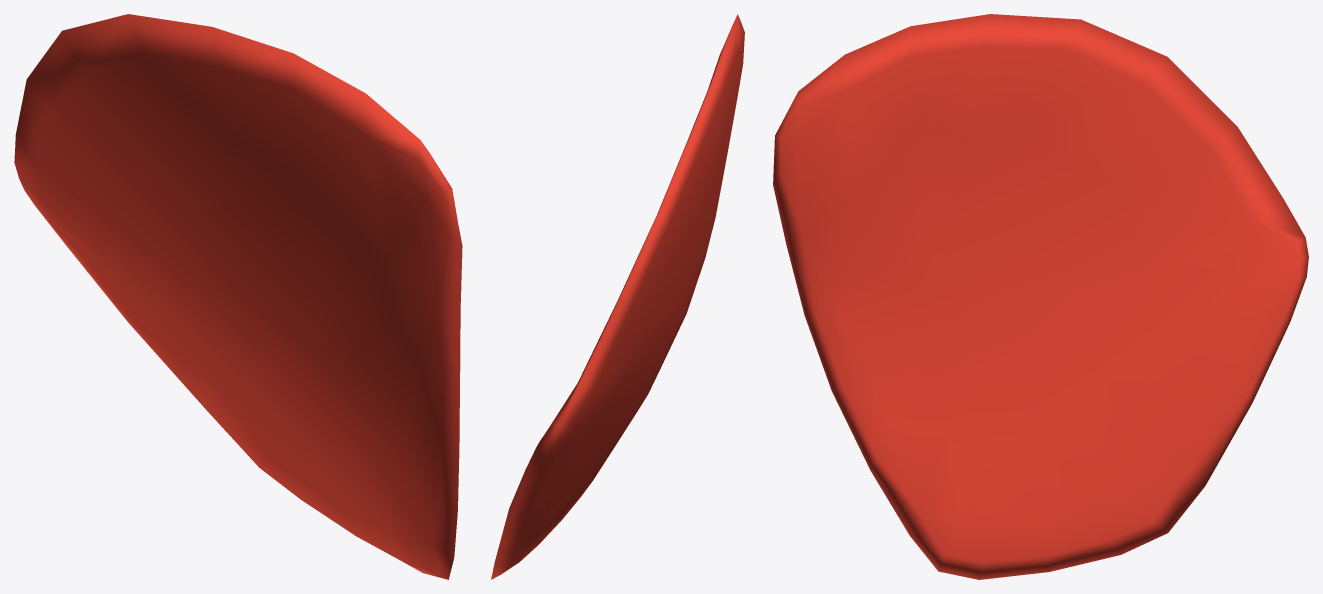
File: Extensor_digitorum_longus_lateral_surface_lateral_condyle_right.glb
3 renders of one model, left to right at view 1: azimuth 30°, elevation 25°; view 2: azimuth 150°, elevation 25°; view 3: azimuth 270°, elevation 25°, orthographic. The views are drawn at different scales.
Parts seen in each view (by area): view 1: Extensor_digitorum_longus_on_lat._surf_of_lat.condyle.r_Gene; view 2: Extensor_digitorum_longus_on_lat._surf_of_lat.condyle.r_Gene; view 3: Extensor_digitorum_longus_on_lat._surf_of_lat.condyle.r_Gene.
Boxes of the visible parts, x1=… form: Extensor_digitorum_longus_on_lat._surf_of_lat.condyle.r_Gene: x1=14, y1=14, x2=462, y2=579; Extensor_digitorum_longus_on_lat._surf_of_lat.condyle.r_Gene: x1=491, y1=14, x2=744, y2=579; Extensor_digitorum_longus_on_lat._surf_of_lat.condyle.r_Gene: x1=773, y1=14, x2=1308, y2=579.
Size of the model in its own units: 0.0054 by 0.0124 by 0.0124.
